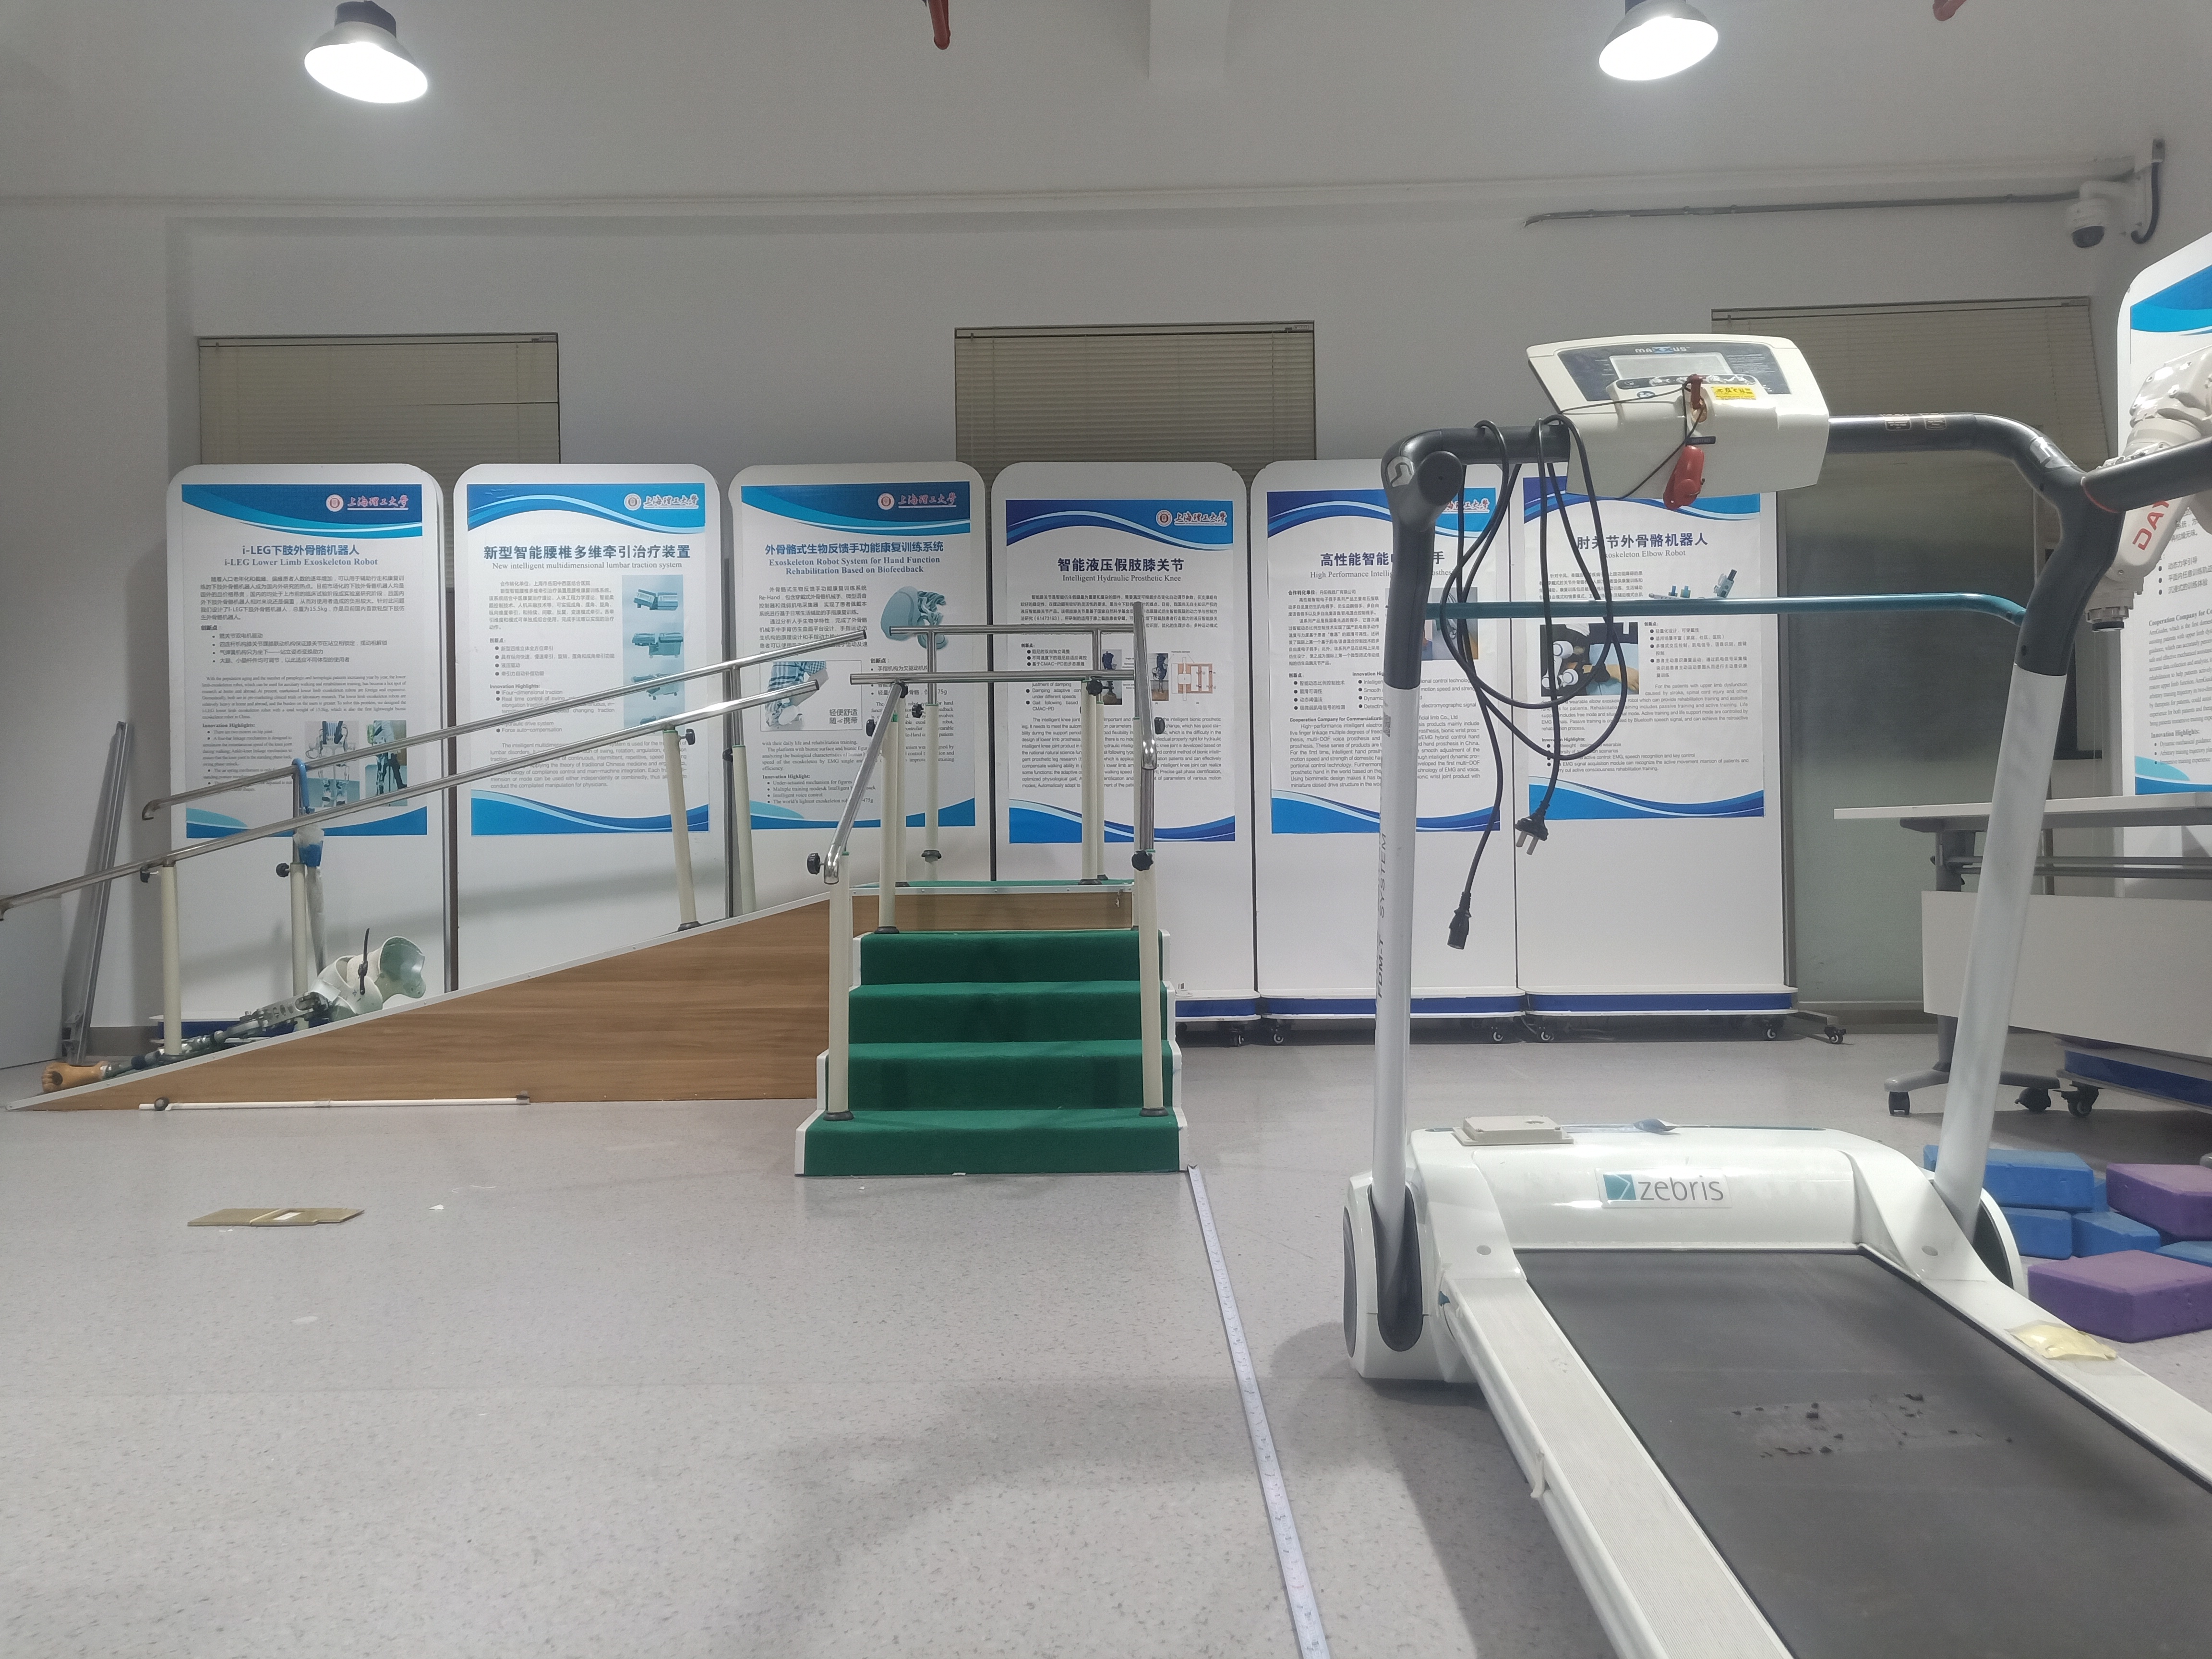stairs: (789, 917, 1193, 1183)
